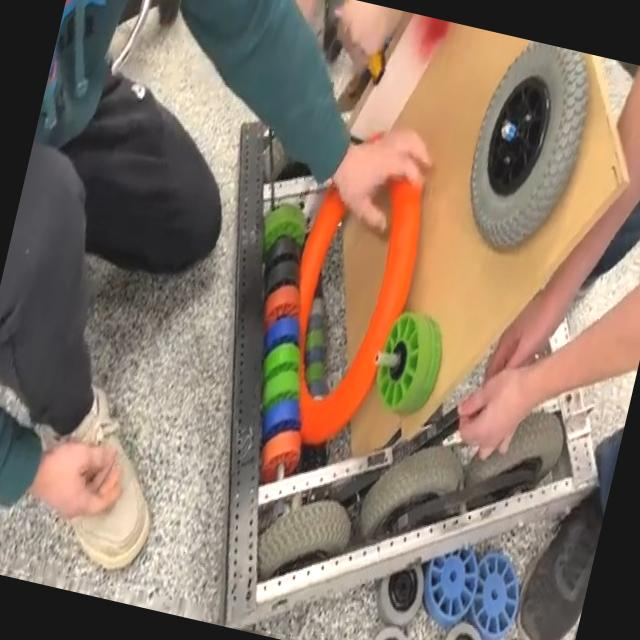note: (258, 119, 446, 463)
